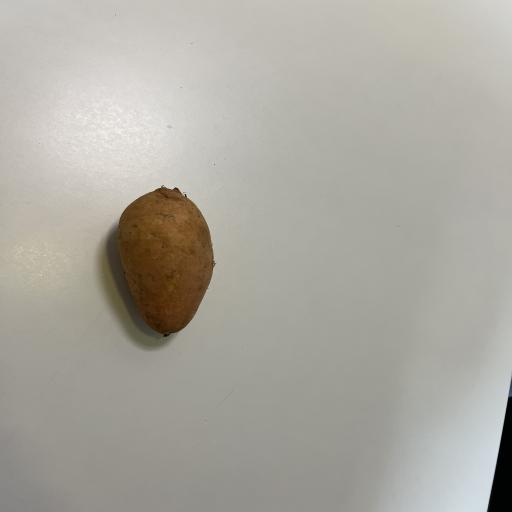sweet_potato: (81, 183, 244, 352)
